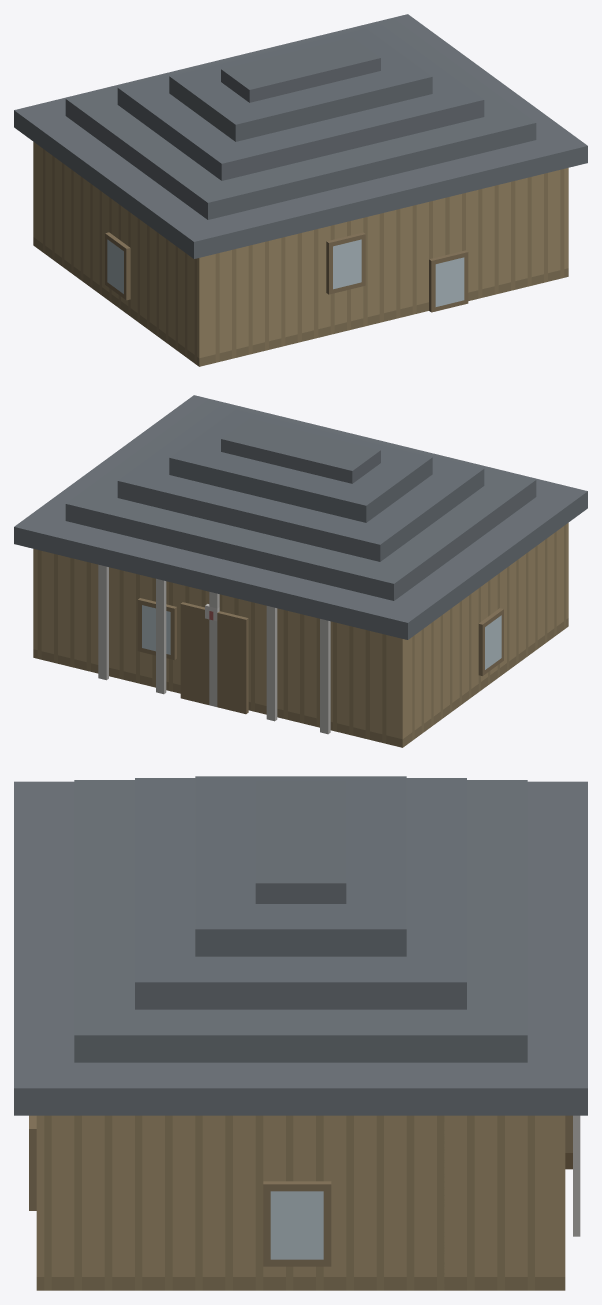
Rendered from capitania_puerto_01.glb.
3 views of the same model, one above another, from view 1: azimuth 30°, elevation 25°; view 2: azimuth 150°, elevation 25°; view 3: azimuth 270°, elevation 25° (orthographic). The views are drawn at different scales.
Visible parts, largest first — view 1: capitania_puerto_01; view 2: capitania_puerto_01; view 3: capitania_puerto_01.
Part boxes in pixels (x1,y1,x2,y2): capitania_puerto_01: (14,14,587,366); capitania_puerto_01: (14,395,587,747); capitania_puerto_01: (14,776,587,1290).
Bounding box in the file's own units: 9.6 × 4.6 × 7.6.
